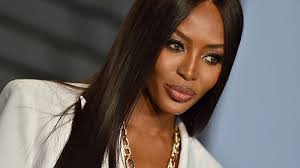black_female: (116, 1, 251, 135)
